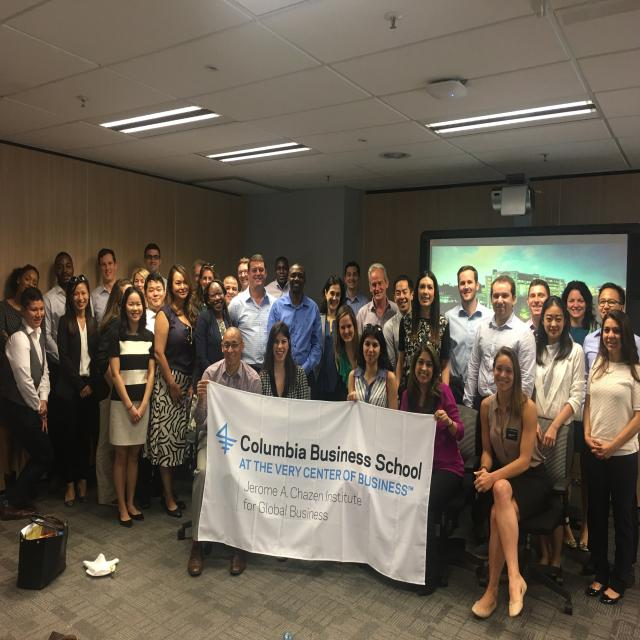body: (470, 344, 554, 622), (463, 274, 537, 556), (185, 325, 262, 578), (577, 281, 640, 589), (581, 308, 640, 606), (398, 343, 464, 597), (533, 296, 586, 582), (147, 263, 201, 518), (106, 283, 157, 529), (0, 284, 51, 522), (55, 273, 104, 509), (394, 270, 451, 412), (267, 262, 323, 399), (444, 264, 496, 406), (94, 277, 142, 426), (227, 254, 279, 374), (41, 251, 95, 362), (309, 274, 348, 402), (347, 325, 399, 410), (515, 278, 574, 348), (258, 320, 309, 400), (194, 278, 234, 378), (0, 263, 47, 347), (382, 274, 415, 376), (356, 262, 399, 334), (332, 303, 363, 400), (558, 279, 598, 346), (88, 246, 120, 327), (129, 243, 168, 307), (339, 261, 370, 316), (143, 272, 166, 336), (191, 264, 218, 315), (264, 256, 290, 298), (132, 268, 150, 308), (223, 275, 239, 310), (236, 256, 250, 296), (191, 258, 207, 283)
